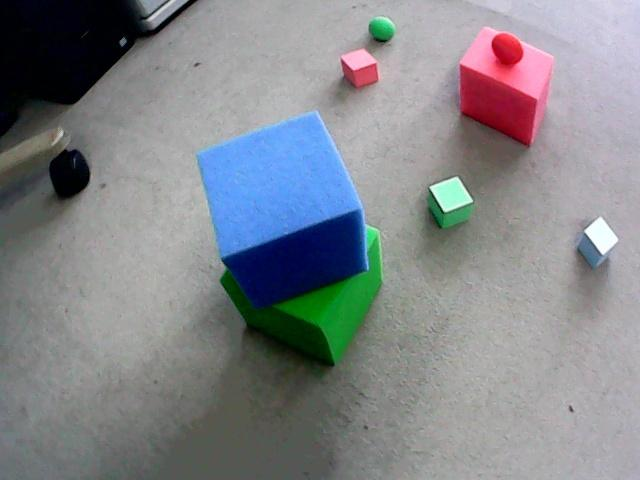blue_block: (197, 112, 367, 307), (578, 217, 618, 268), (578, 233, 602, 267)
red_block: (459, 27, 553, 145), (341, 49, 378, 86)
